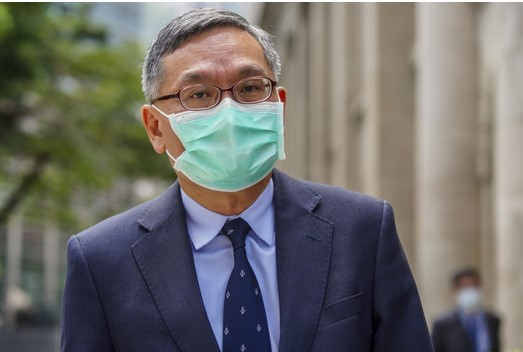face_with_mask: (142, 19, 288, 194)
